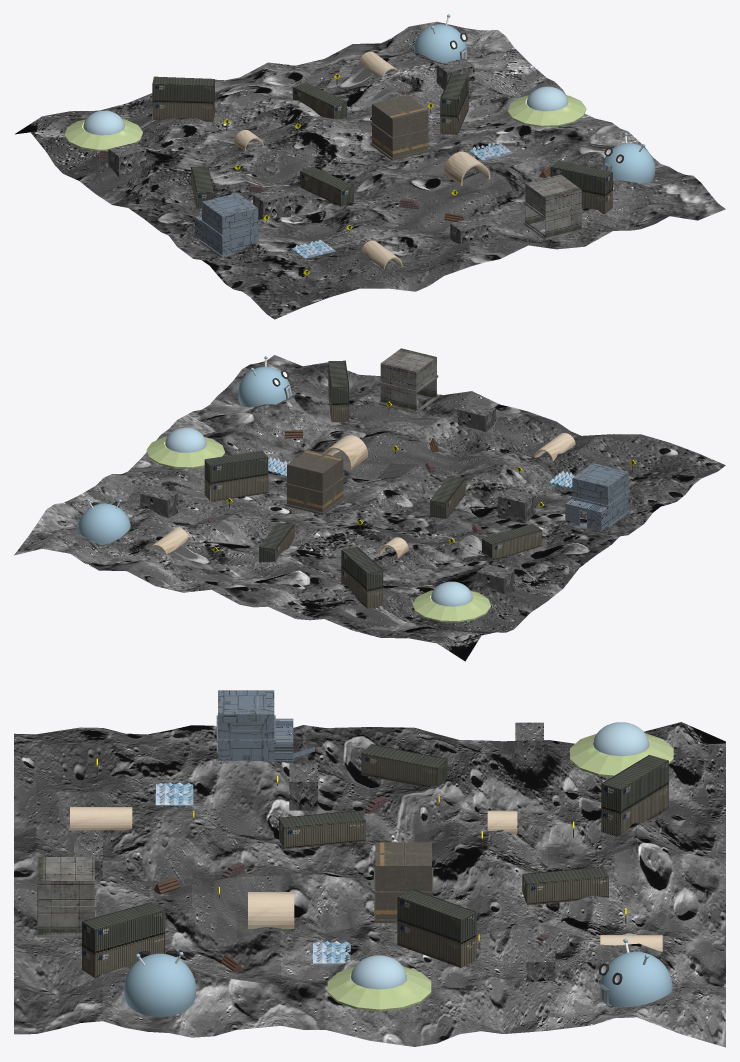
The model's file is FPS.fbx.
3 views of the same model, one above another, from view 1: azimuth 30°, elevation 25°; view 2: azimuth 150°, elevation 25°; view 3: azimuth 270°, elevation 25° (orthographic). The views are drawn at different scales.
Visible parts, largest first — view 1: moon surface.006, building_181.002, building_181, building_181.003, Cube.026, ufo, ufo.001, Cube.025, Base.002, Base.001, Cube.027, Cube.017 (+10 smaller); view 2: moon surface.006, building_181.002, building_181, building_181.003, Cube.027, ufo.001, ufo, Cube.026, Base.002, Base.001, Cube.023, Cube.025 (+9 smaller); view 3: moon surface.006, building_181.002, Cube.027, Cube.025, building_181.003, ufo, Cube.026, Base.002, building_181, ufo.001, Base.001, Cube.017 (+12 smaller).
Part boxes in pixels (box(x1,y1,x2,y2)): moon surface.006: box(15, 21, 725, 319); building_181.002: box(195, 193, 259, 257); building_181: box(370, 95, 429, 160); building_181.003: box(523, 174, 582, 239); Cube.026: box(152, 76, 214, 121); ufo: box(508, 86, 586, 127); ufo.001: box(64, 110, 142, 151); Cube.025: box(550, 160, 612, 213); Base.002: box(602, 132, 655, 183); Base.001: box(414, 14, 467, 63); Cube.027: box(440, 72, 468, 134); Cube.017: box(300, 166, 353, 206); moon surface.006: box(14, 355, 725, 661); building_181.002: box(565, 463, 630, 530); building_181: box(285, 449, 344, 514); building_181.003: box(379, 348, 438, 413); Cube.027: box(204, 450, 268, 501); ufo.001: box(412, 581, 490, 622); ufo: box(146, 427, 224, 468); Cube.026: box(341, 546, 383, 608); Base.002: box(238, 356, 292, 406); Base.001: box(78, 499, 130, 545); Cube.023: box(482, 524, 542, 558); Cube.025: box(328, 360, 349, 422); moon surface.006: box(14, 722, 725, 1047); building_181.002: box(216, 690, 314, 763); Cube.027: box(397, 889, 476, 967); Cube.025: box(82, 902, 165, 978); building_181.003: box(37, 857, 96, 937); ufo: box(327, 955, 431, 1011); Cube.026: box(601, 755, 668, 836); Base.002: box(123, 950, 196, 1016); building_181: box(374, 842, 433, 922); ufo.001: box(570, 722, 673, 777); Base.001: box(599, 938, 672, 1007); Cube.017: box(279, 810, 365, 849).
Bounding box in the file's own units: 2494 × 20000 × 20000.
